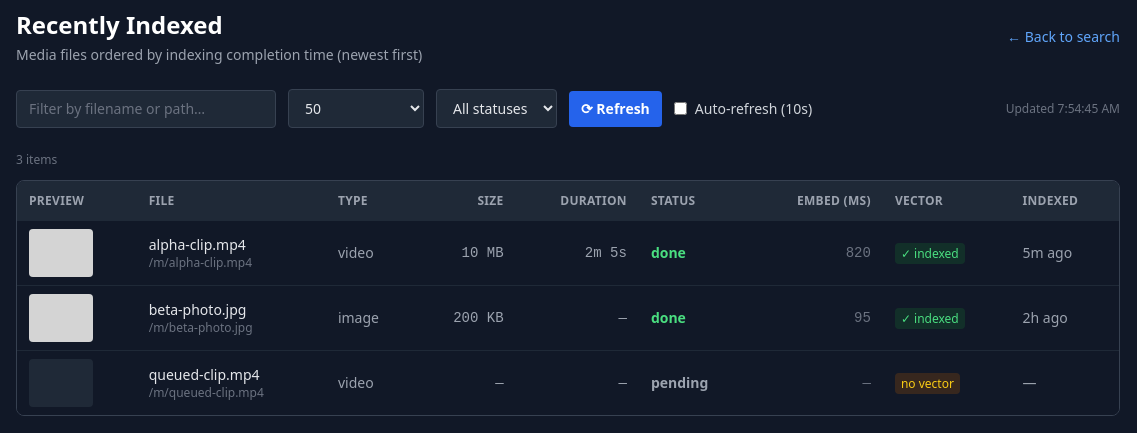
Test: /recent page › narrows the table when the filename filter is typed
Expected: the link "alpha-clip.mp4" is shown, [149, 235, 246, 254]
Step 1. Type "alpha" into the field with placeholder "Filter by filename or path…" → (146, 108), box [16, 90, 276, 128]
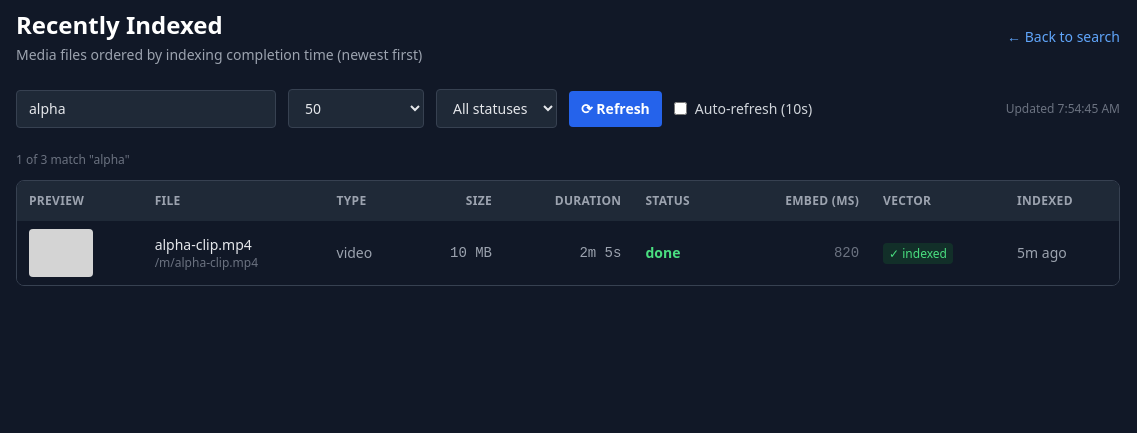
Expected: the link "beta-photo.jpg" is gone
Expected: the link "queued-clip.mp4" is gone
Expected: the text "1 of 3 match \"alpha\"" is shown, [16, 151, 130, 168]
